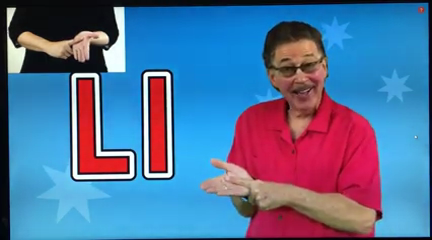L: (198, 156, 294, 214), (48, 27, 98, 67)
